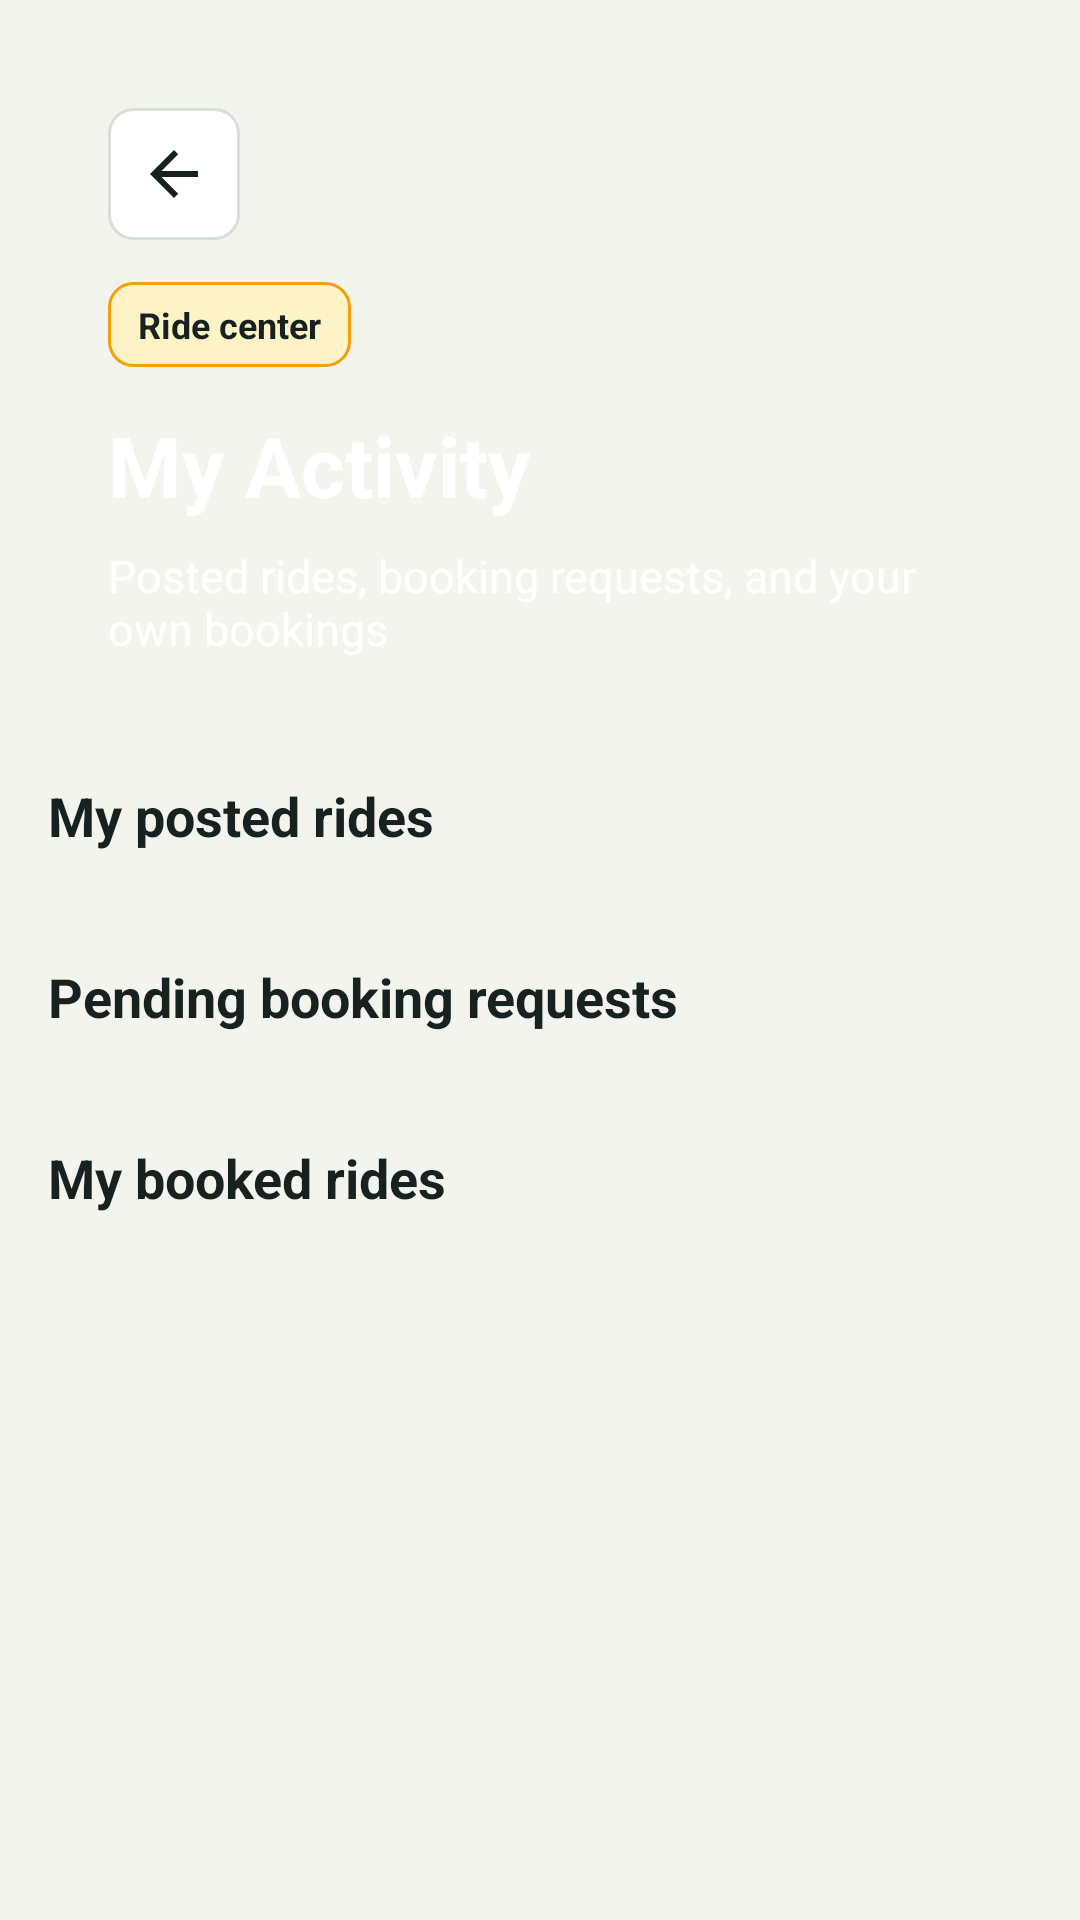

Icons on this 1080px×1920px Android screen, each with its box as (x1, y1, x2, y2):
Back: (108, 108, 240, 240)
